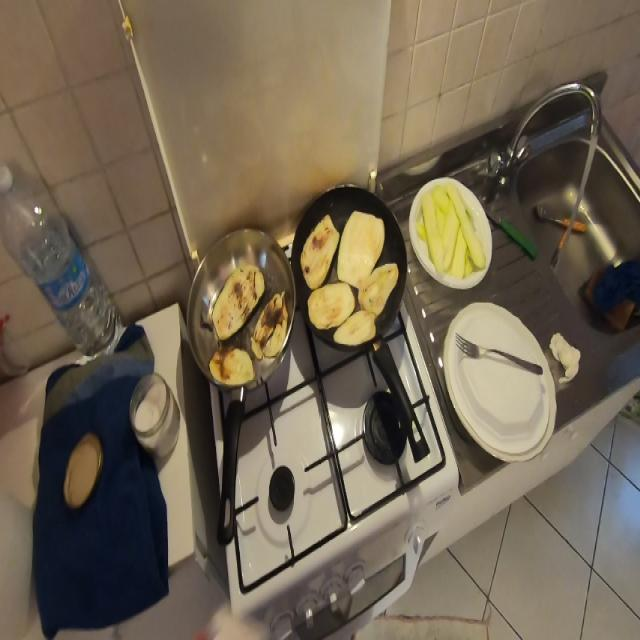fork: (452, 326, 546, 382)
hob: (240, 402, 336, 553)
jar: (120, 362, 178, 448)
pan: (291, 194, 428, 452), (184, 234, 288, 518)
plate: (442, 297, 561, 480)
tap: (483, 78, 606, 210)
water filter: (0, 164, 121, 368)
